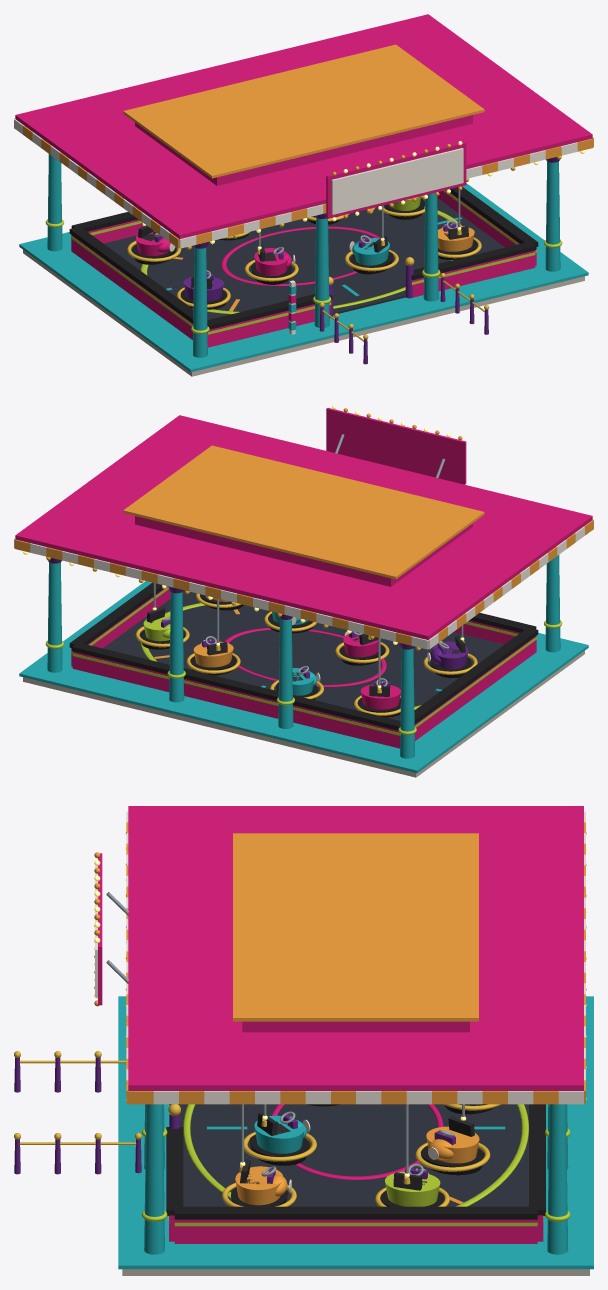
Rendered from bumper-cars.glb.
3 renders of one model, top to bottom at view 1: azimuth 30°, elevation 25°; view 2: azimuth 150°, elevation 25°; view 3: azimuth 270°, elevation 25°, orthographic. The views are drawn at different scales.
Parts seen in each view (by area): view 1: roof_slab, roof_ridge_cap, arena_floor, plinth_trim, sign_face, roof_crown, plinth, rail_bumper_left, rail_panel_left, rail_panel_front_right, rail_panel_front_left, sign_frame (+17 smaller); view 2: roof_slab, roof_ridge_cap, plinth_trim, arena_floor, sign_frame, rail_panel_back, rail_bumper_back, plinth, roof_crown, rail_panel_left, rail_bumper_left, column_r70_b (+14 smaller); view 3: roof_slab, roof_ridge_cap, arena_floor, plinth_trim, rail_panel_right, rail_bumper_right, plinth, column_r70_b, column_r70_f, roof_crown, queue, rail_bumper_back (+11 smaller).
Part boxes in pixels (bbox=[...]): roof_slab: bbox=[15, 14, 592, 239]; roof_ridge_cap: bbox=[123, 44, 484, 178]; arena_floor: bbox=[104, 198, 504, 319]; plinth_trim: bbox=[19, 183, 588, 372]; sign_face: bbox=[331, 148, 463, 214]; roof_crown: bbox=[135, 115, 472, 185]; plinth: bbox=[23, 250, 584, 376]; rail_bumper_left: bbox=[69, 226, 210, 323]; rail_panel_left: bbox=[71, 235, 193, 339]; rail_panel_front_right: bbox=[411, 250, 535, 297]; rail_panel_front_left: bbox=[207, 300, 331, 347]; sign_frame: bbox=[326, 142, 466, 218]; roof_slab: bbox=[15, 415, 592, 639]; roof_ridge_cap: bbox=[123, 445, 484, 579]; plinth_trim: bbox=[19, 581, 588, 773]; arena_floor: bbox=[103, 590, 503, 720]; sign_frame: bbox=[326, 408, 466, 484]; rail_panel_back: bbox=[72, 651, 400, 748]; rail_bumper_back: bbox=[71, 642, 400, 730]; plinth: bbox=[23, 651, 584, 777]; roof_crown: bbox=[135, 516, 472, 586]; rail_panel_left: bbox=[414, 636, 536, 740]; rail_bumper_left: bbox=[400, 628, 538, 724]; column_r70_b: bbox=[47, 562, 62, 672]; roof_slab: bbox=[128, 806, 583, 1090]; roof_ridge_cap: bbox=[233, 833, 478, 1021]; arena_floor: bbox=[178, 1104, 528, 1206]; plinth_trim: bbox=[118, 996, 593, 1269]; rail_panel_right: bbox=[174, 1219, 537, 1243]; rail_bumper_right: bbox=[174, 1206, 537, 1219]; plinth: bbox=[122, 1269, 589, 1275]; column_r70_b: bbox=[547, 1104, 568, 1254]; column_r70_f: bbox=[144, 1104, 164, 1254]; roof_crown: bbox=[242, 1021, 469, 1032]; queue: bbox=[14, 1051, 141, 1174]; rail_bumper_back: bbox=[529, 1104, 545, 1215].
Bounding box in the file's own units: 16.5 × 6.79 × 14.39.
